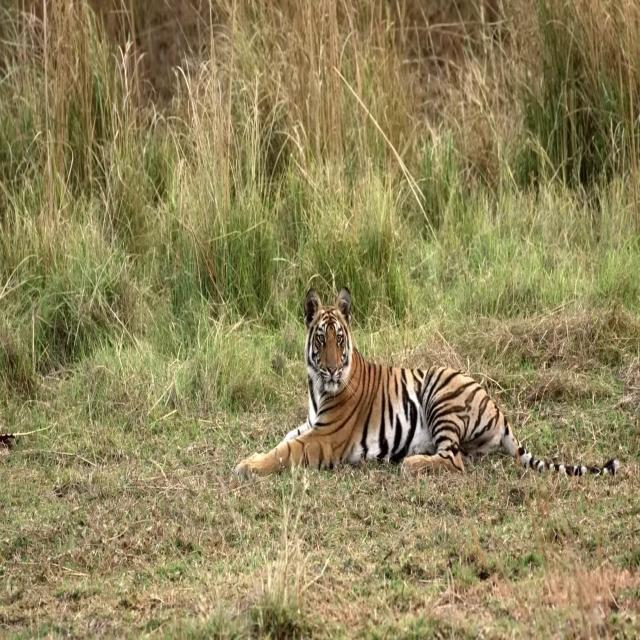tiger: (234, 284, 623, 484)
